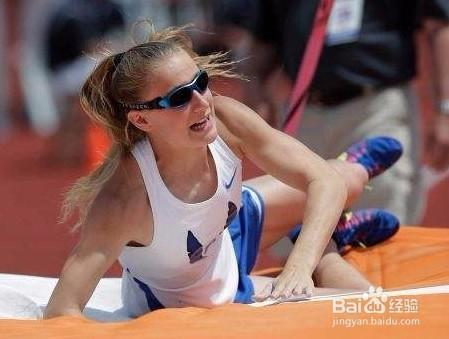Fall-Detected: (15, 12, 426, 325)
